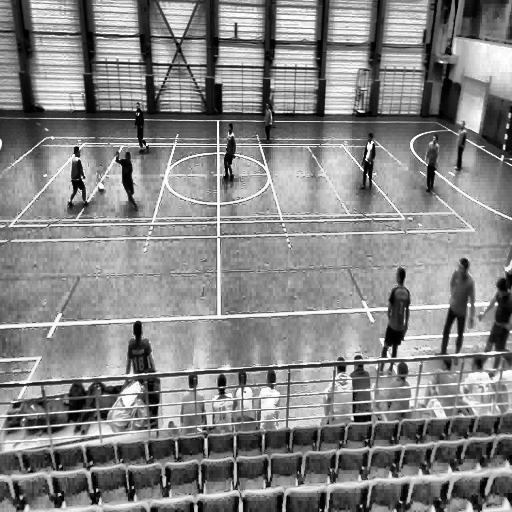ball: (98, 181, 106, 194)
player: (440, 258, 475, 364), (378, 267, 410, 376), (126, 320, 155, 379), (115, 150, 139, 215), (68, 145, 90, 212), (424, 132, 440, 194), (359, 130, 375, 191), (221, 121, 236, 182), (133, 104, 150, 156), (453, 121, 467, 174), (262, 99, 273, 144)
